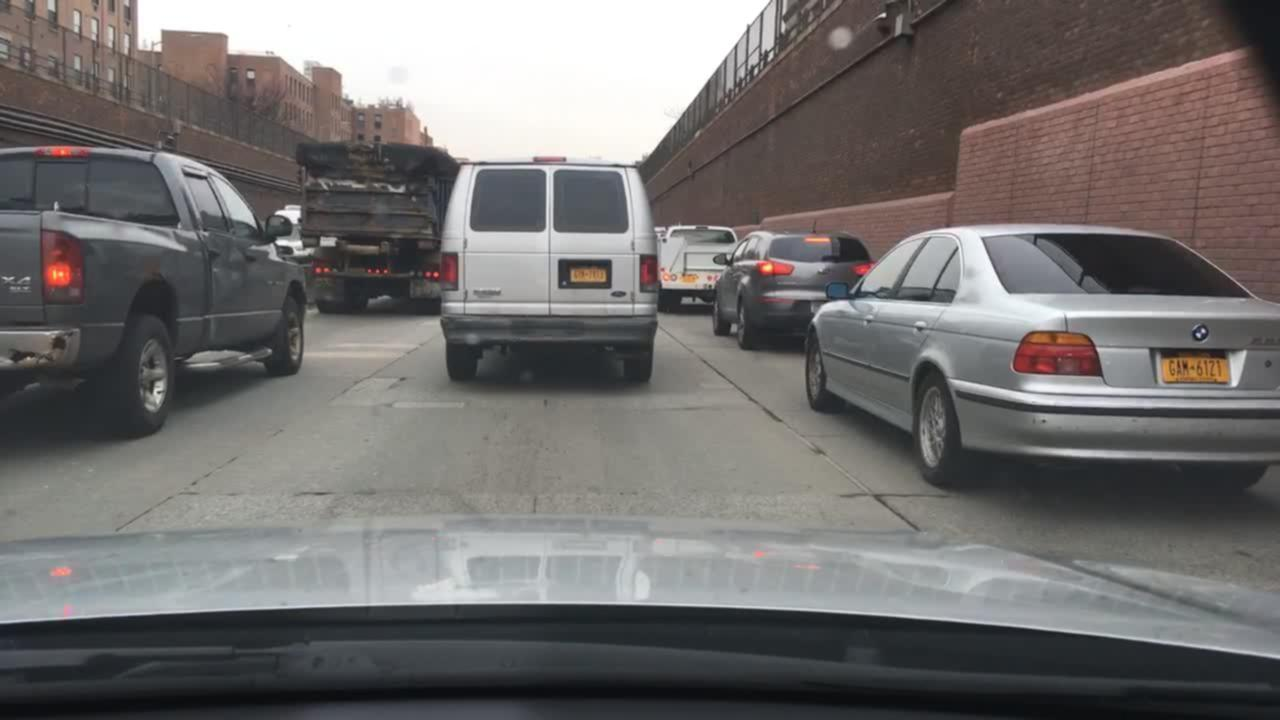bmw: (1188, 319, 1212, 344)
kia: (812, 262, 839, 283)
